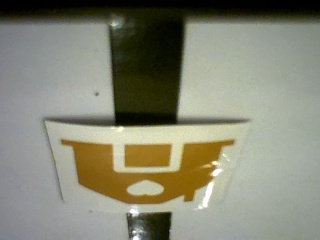Rescue_Station: (60, 138, 235, 205)
